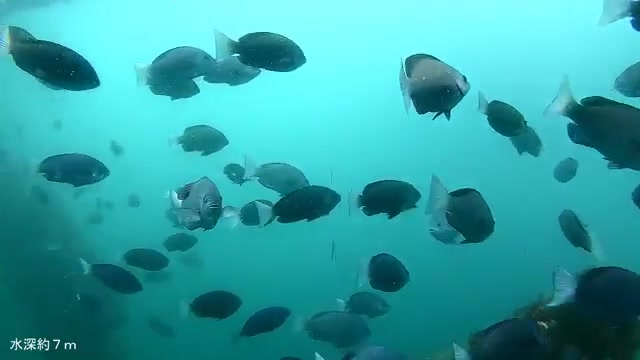gure: (210, 21, 324, 76)
smallfish: (420, 172, 508, 260), (29, 146, 117, 201), (238, 148, 320, 207), (73, 251, 152, 304), (288, 306, 381, 351), (254, 187, 342, 228), (343, 174, 413, 222), (165, 121, 230, 165)
